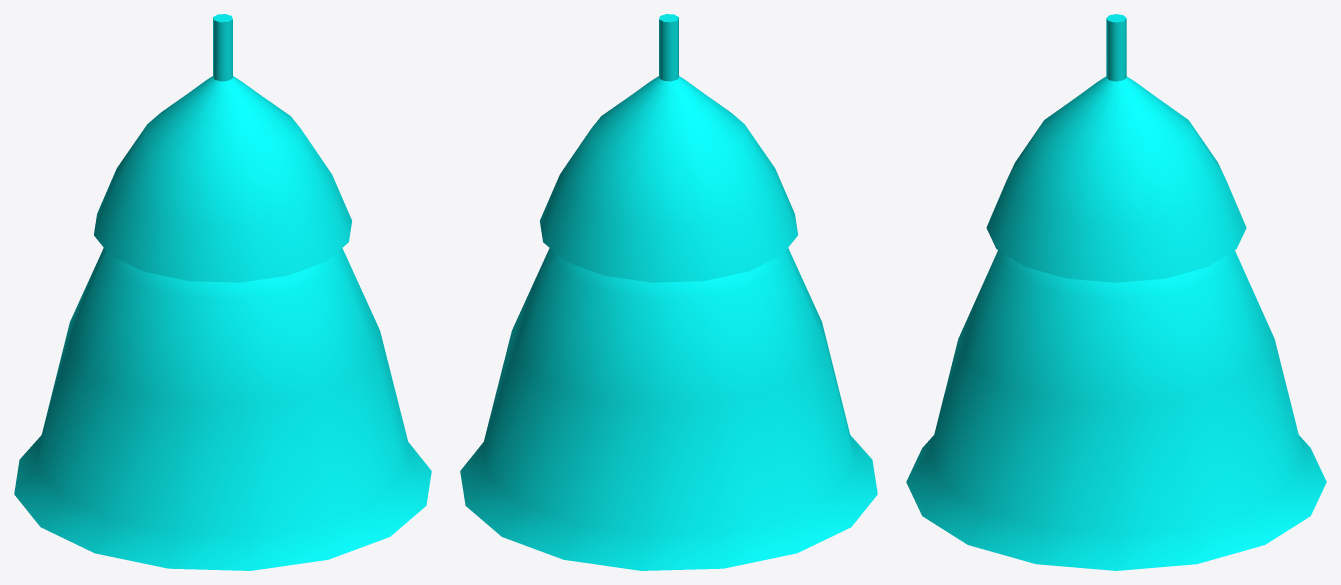
File: Paille_Pillier.fbx
The picture shows the model from 3 angles, left to right: view 1: azimuth 30°, elevation 25°; view 2: azimuth 150°, elevation 25°; view 3: azimuth 270°, elevation 25°; orthographic projection.
Parts seen in each view (by area): view 1: Pilier_paille; view 2: Pilier_paille; view 3: Pilier_paille.
Boxes of the visible parts, x1=… form: Pilier_paille: x1=14, y1=14, x2=431, y2=570; Pilier_paille: x1=460, y1=14, x2=877, y2=570; Pilier_paille: x1=906, y1=14, x2=1326, y2=570.
Bounding box in the file's own units: 2.07 × 2.52 × 2.07.
